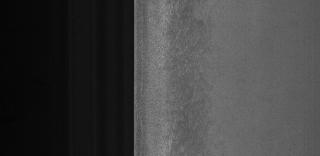silk spot: (160, 9, 214, 149)
